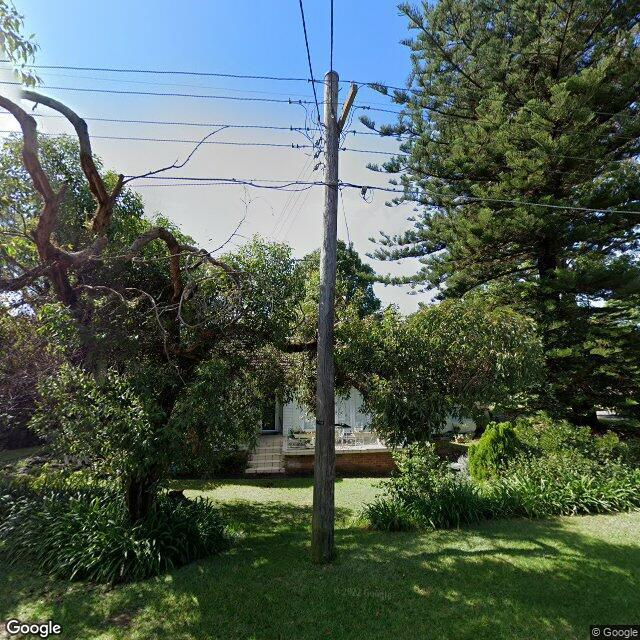crossarm: (337, 85, 358, 136)
timber-pole: (309, 70, 340, 569)
